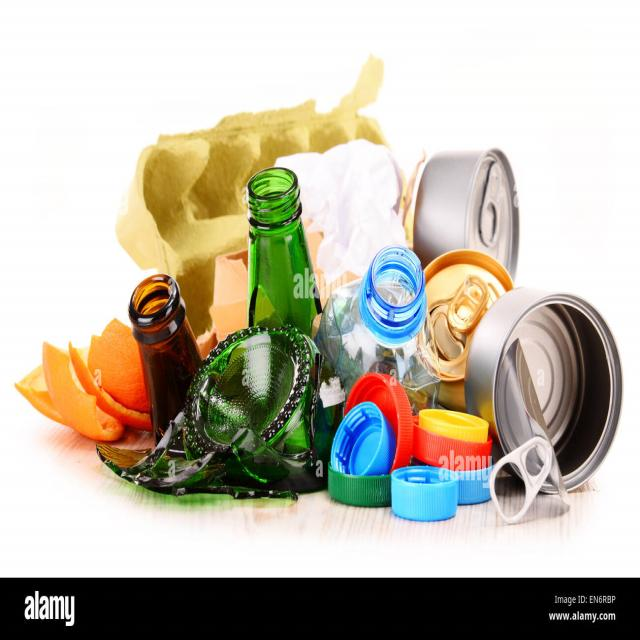metal: (476, 289, 623, 510)
plastic: (330, 275, 462, 527)
